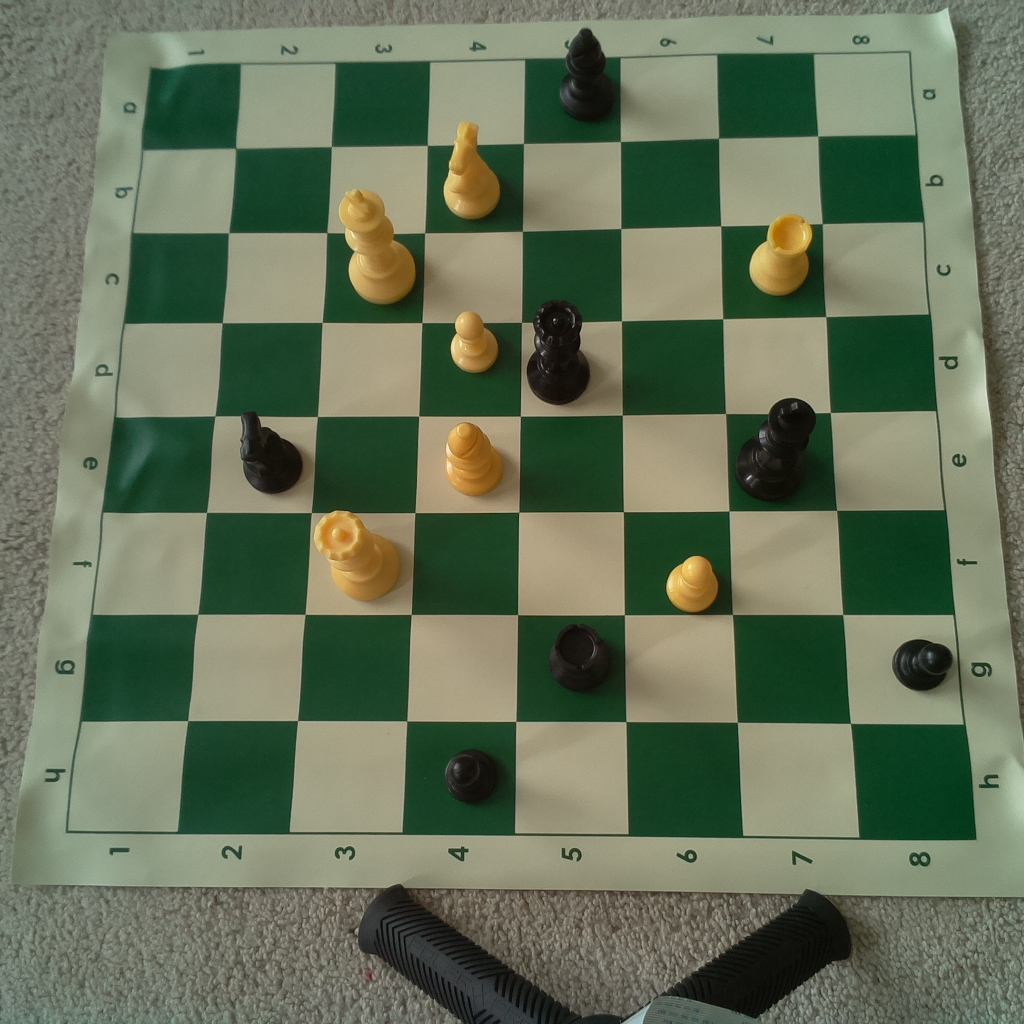black_bishop: (555, 21, 618, 126)
black_king: (734, 391, 816, 508)
black_knight: (229, 408, 305, 499)
black_pawn: (886, 631, 955, 695), (447, 745, 507, 810)
black_queen: (523, 299, 593, 406)
black_rook: (545, 617, 618, 693)
file_a: (142, 53, 918, 149)
file_b: (132, 136, 925, 236)
file_c: (128, 223, 931, 321)
file_d: (114, 314, 938, 419)
file_e: (103, 410, 947, 510)
file_f: (90, 509, 958, 614)
file_g: (79, 614, 967, 725)
file_h: (66, 721, 979, 840)
outline: (62, 51, 979, 840)
rank_1: (63, 61, 244, 833)
rank_2: (177, 64, 334, 835)
rank_3: (290, 61, 429, 835)
rank_4: (403, 60, 523, 835)
rank_5: (515, 61, 631, 834)
rank_6: (616, 56, 747, 838)
rank_7: (716, 53, 860, 840)
rank_8: (814, 53, 979, 838)
white_bishop: (434, 418, 512, 496)
white_king: (336, 186, 418, 304)
white_knight: (428, 117, 510, 225)
white_pawn: (666, 549, 721, 613), (450, 309, 501, 377)
white_queen: (306, 504, 408, 605)
white_rook: (744, 208, 821, 304)
